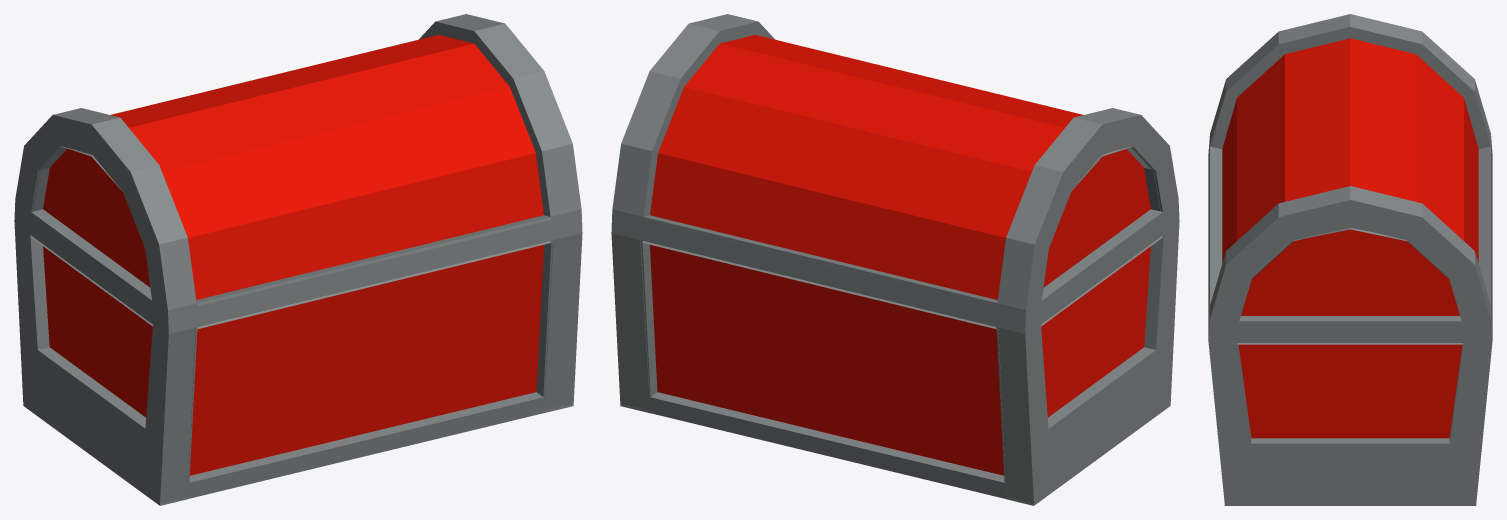
The model's file is Chest.fbx.
3 renders of one model, left to right at view 1: azimuth 30°, elevation 25°; view 2: azimuth 150°, elevation 25°; view 3: azimuth 270°, elevation 25°, orthographic. The views are drawn at different scales.
Visible parts, largest first — view 1: Chest Lid, Chest Bottom; view 2: Chest Lid, Chest Bottom; view 3: Chest Lid, Chest Bottom.
Boxes of the visible parts, left/top/right/bottom form: Chest Lid: left=15, top=14, right=581, bottom=322; Chest Bottom: left=14, top=211, right=582, bottom=505; Chest Lid: left=612, top=14, right=1178, bottom=322; Chest Bottom: left=611, top=211, right=1179, bottom=505; Chest Lid: left=1209, top=14, right=1491, bottom=330; Chest Bottom: left=1208, top=149, right=1492, bottom=505.
Size of the model in its own units: 449 by 345 by 290.
